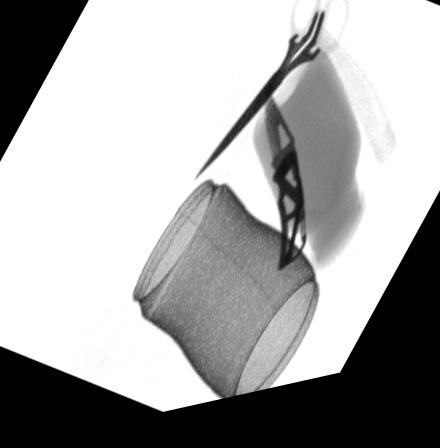Knife: (266, 106, 307, 282)
Scissors: (194, 0, 352, 189)
